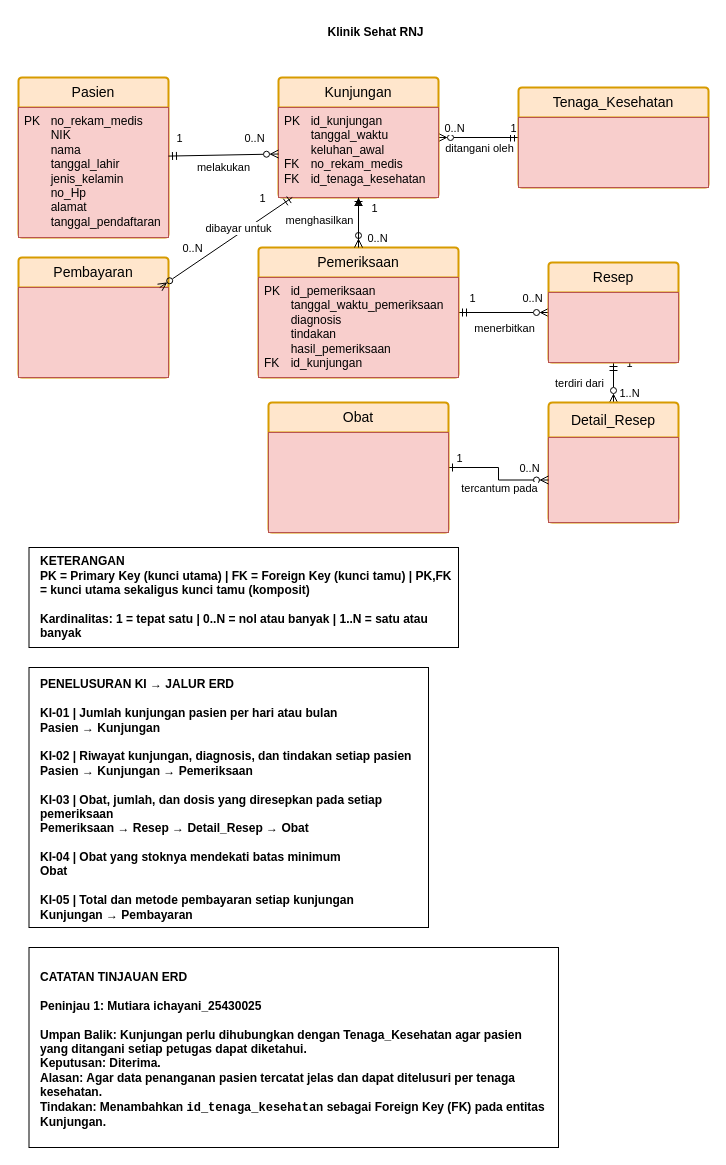
Image size: 726x1165. Some labels were removed from this diagram. The shapes that lost their labels are listed below. From the top down, each one's centre as x and y in pixels, then its label:
At point (613, 152): "PK id_tenaga_kesehatan nama peran no_Hp".
At point (93, 332): "PK id_pembayaran FK id_kunjungan tanggal_pembayaran jumlah metode_pembayaran".
At point (613, 327): "PK id_resep tanggal_resep FK id_pemeriksaan status_resep".
At point (358, 482): "PK id_obat nama_obat satuan harga jumlah_stok batas_minimumstok".
At point (613, 479): "PK,FK id_resep PK,FK id_obat jumlah dosis".
